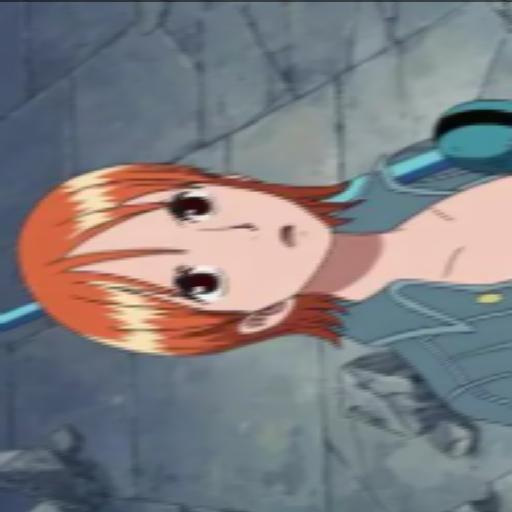Nami: (19, 98, 512, 433)
